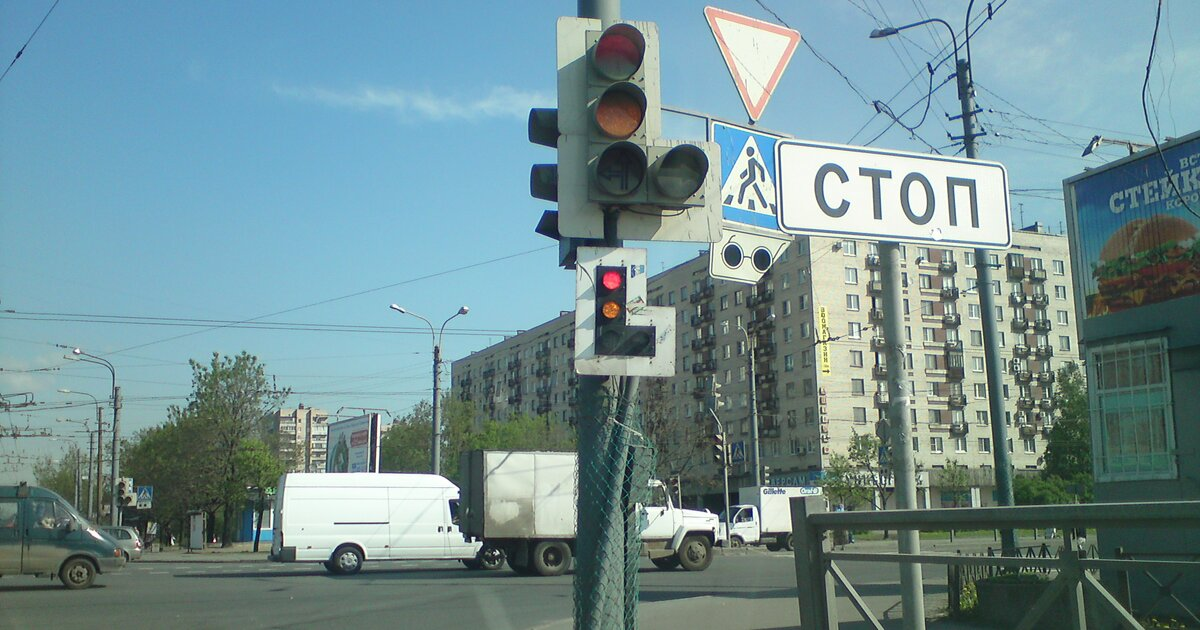tl: (553, 13, 716, 234), (573, 241, 674, 371)
